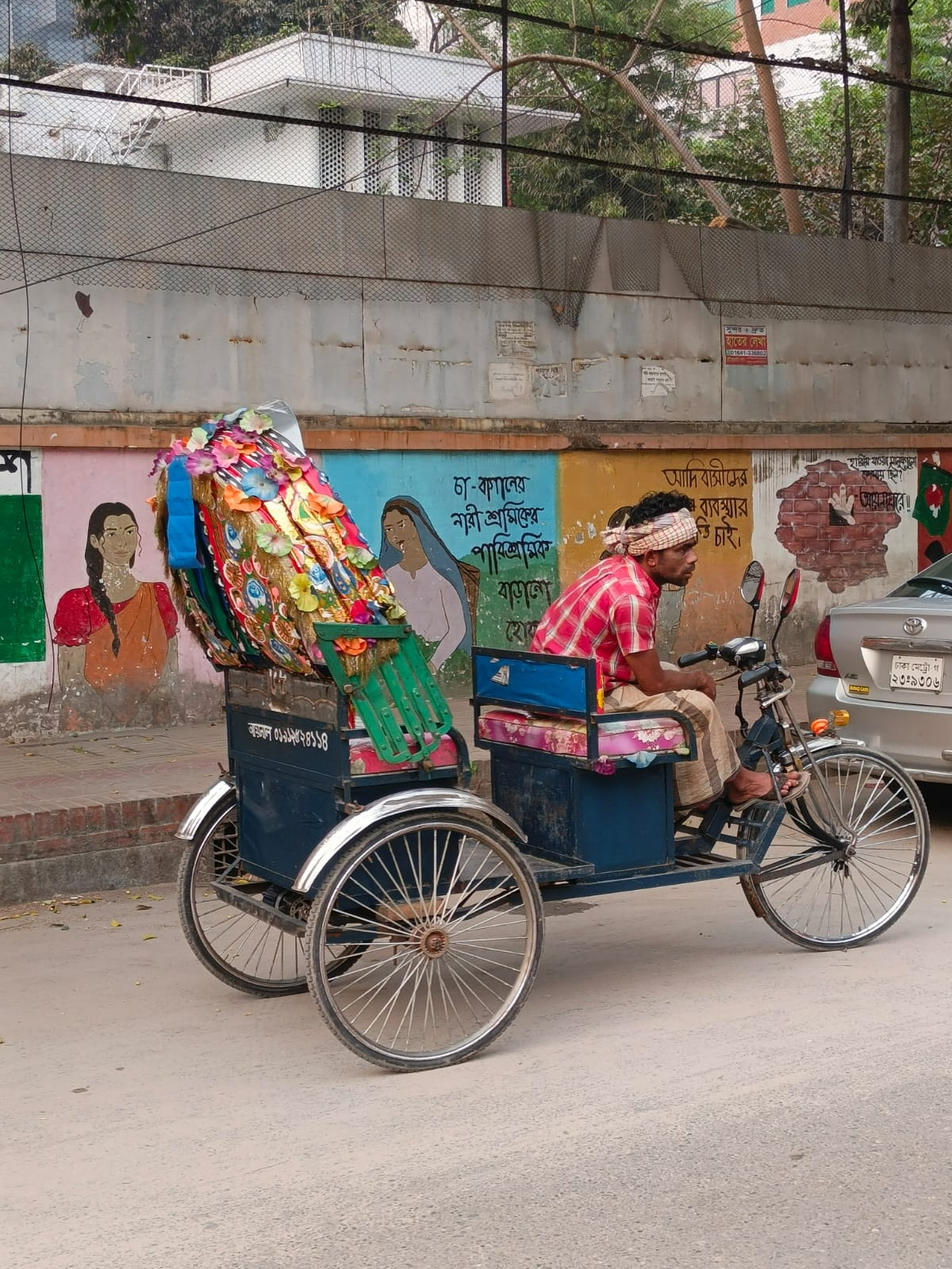auto-ricksaw: (116, 376, 952, 1086)
private car: (772, 453, 952, 798)
